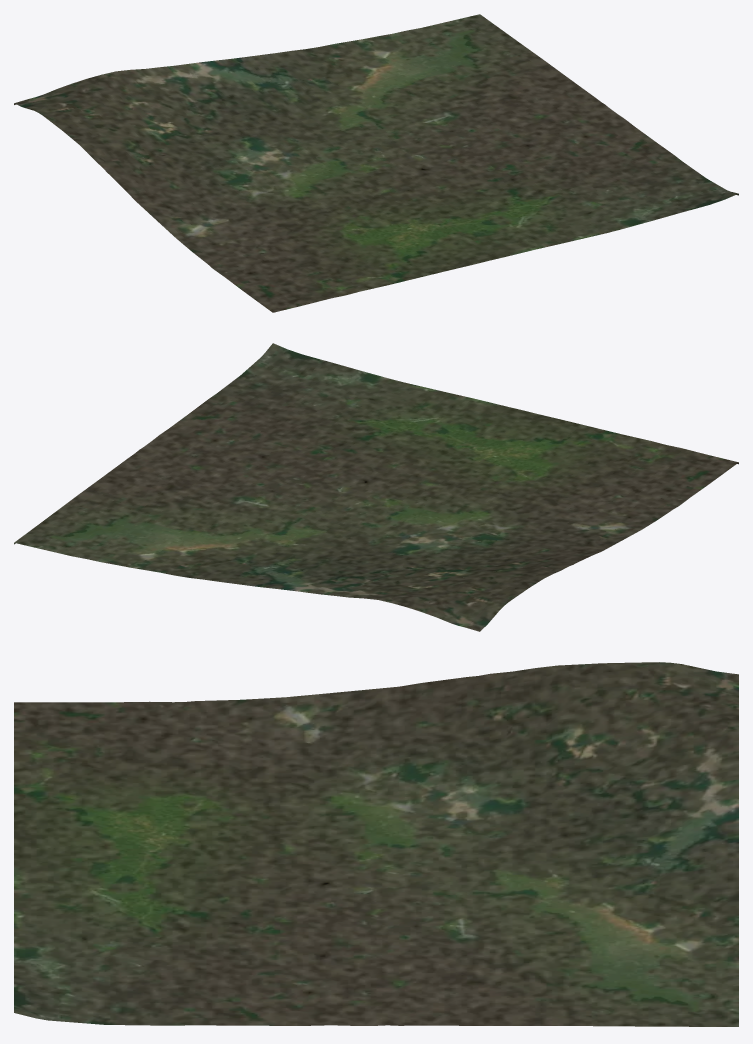
The picture shows the model from 3 angles, top to bottom: view 1: azimuth 30°, elevation 25°; view 2: azimuth 150°, elevation 25°; view 3: azimuth 270°, elevation 25°; orthographic projection. The views are drawn at different scales.
Bounding box in the file's own units: 250 × 18.08 × 241.
1 material, 1 textured.
